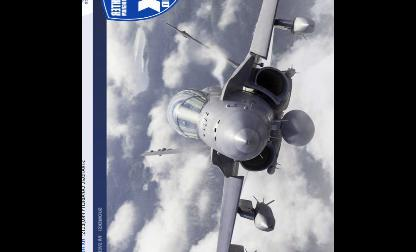F15: (138, 0, 319, 251)
